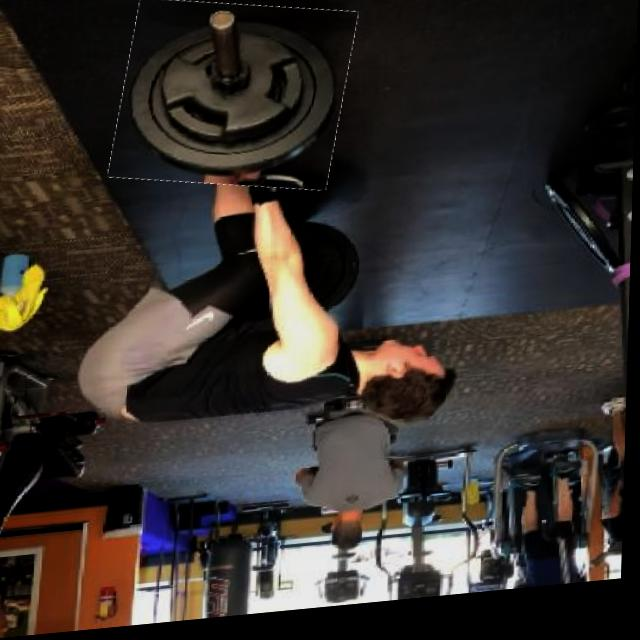barbell: (115, 1, 354, 206)
